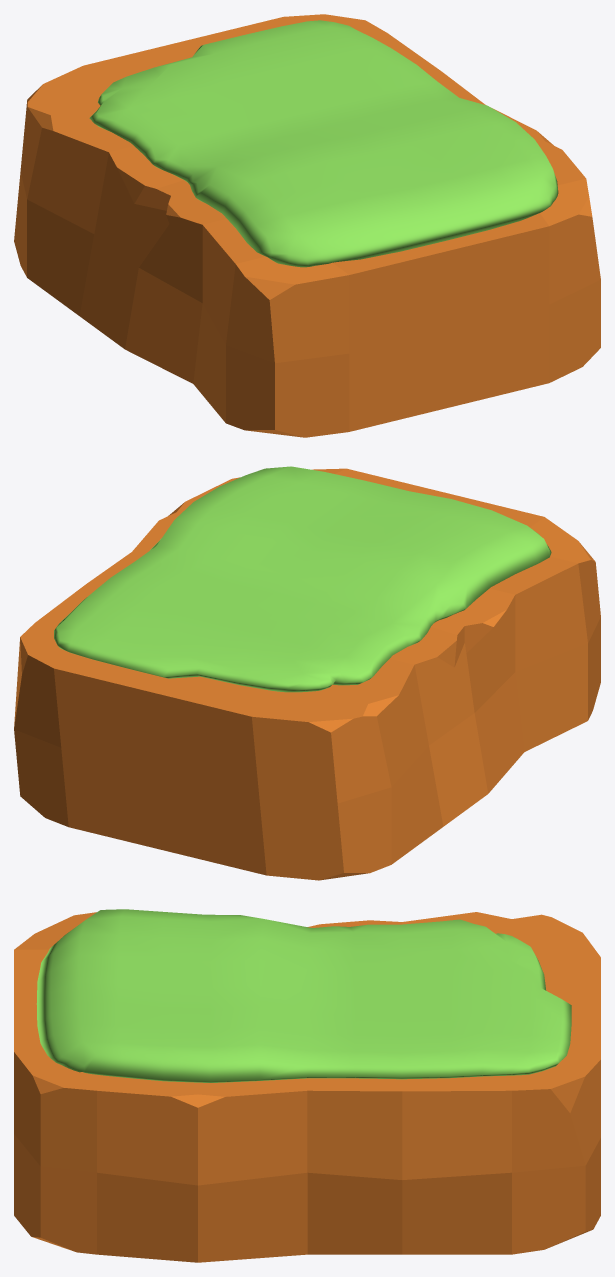
Rendered from Platform_01.fbx.
3 renders of one model, top to bottom at view 1: azimuth 30°, elevation 25°; view 2: azimuth 150°, elevation 25°; view 3: azimuth 270°, elevation 25°, orthographic. The views are drawn at different scales.
Parts seen in each view (by area): view 1: Platform_01; view 2: Platform_01; view 3: Platform_01.
Part boxes in pixels (x1,y1,x2,y2): Platform_01: (14, 14, 600, 437); Platform_01: (14, 466, 600, 880); Platform_01: (14, 909, 600, 1262).
Bounding box in the file's own units: 514 × 233 × 649.
